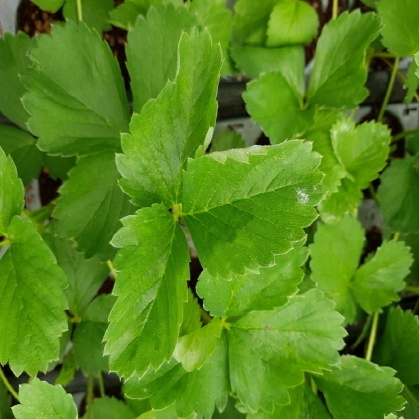Powdery_Leaf: (26, 167, 340, 304), (91, 137, 239, 282)
